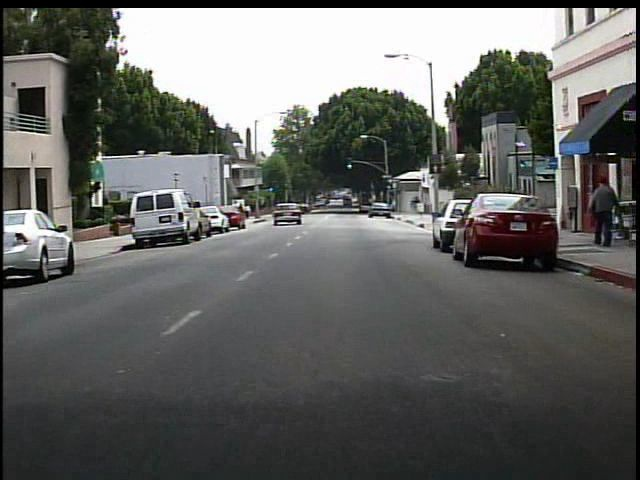person: (585, 177, 620, 250)
